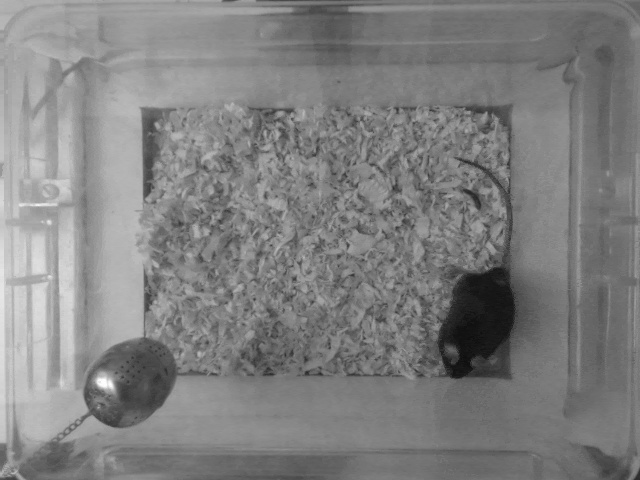mice: (440, 140, 514, 380)
